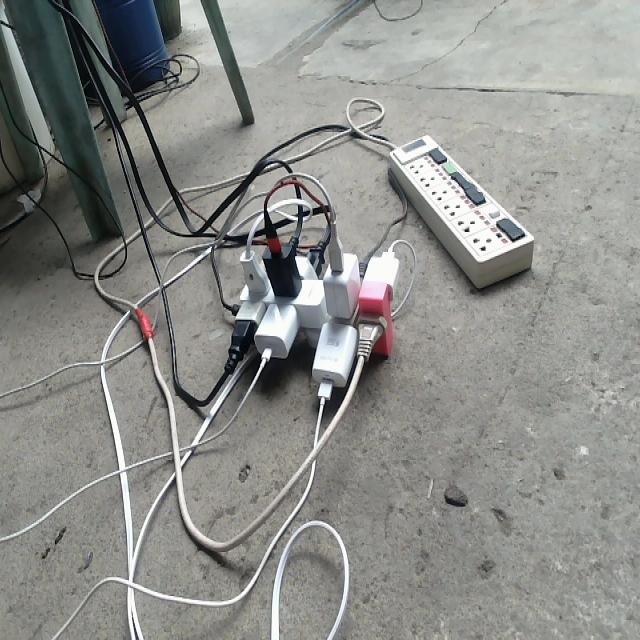-: (224, 191, 399, 405)
